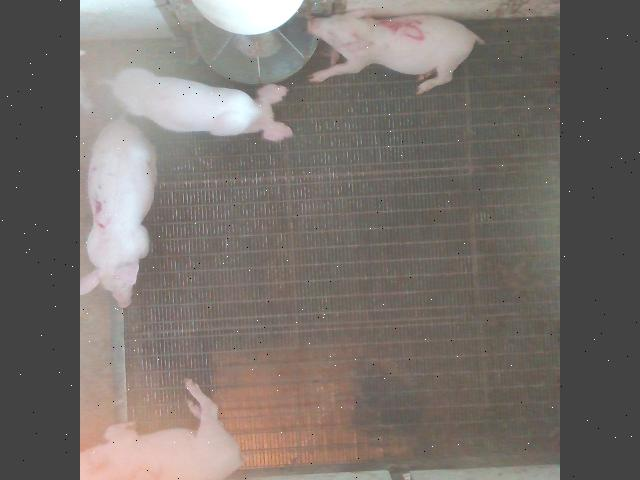pig-2: (81, 379, 242, 480)
pig-3: (81, 118, 156, 306)
pig-5: (308, 9, 484, 94)
